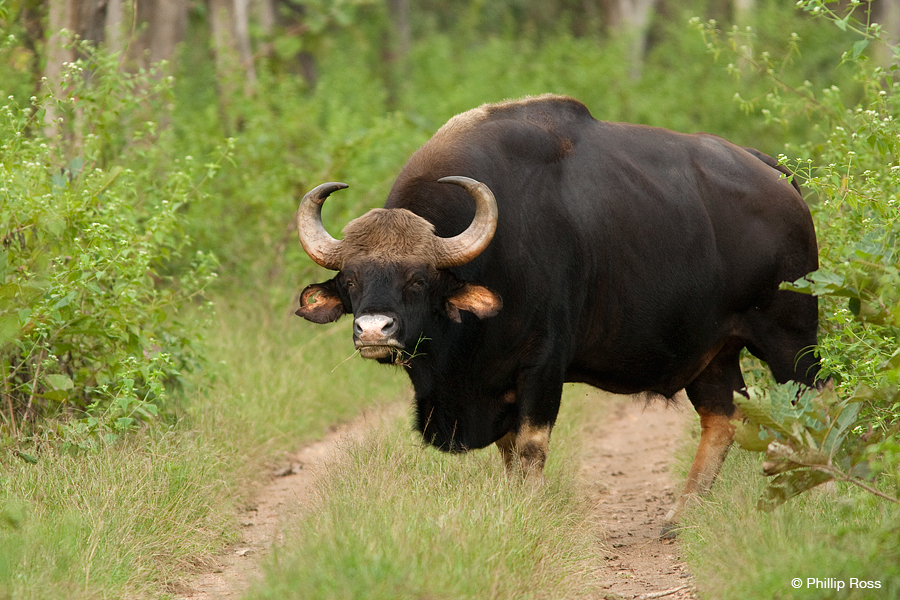bison: (291, 81, 874, 534)
